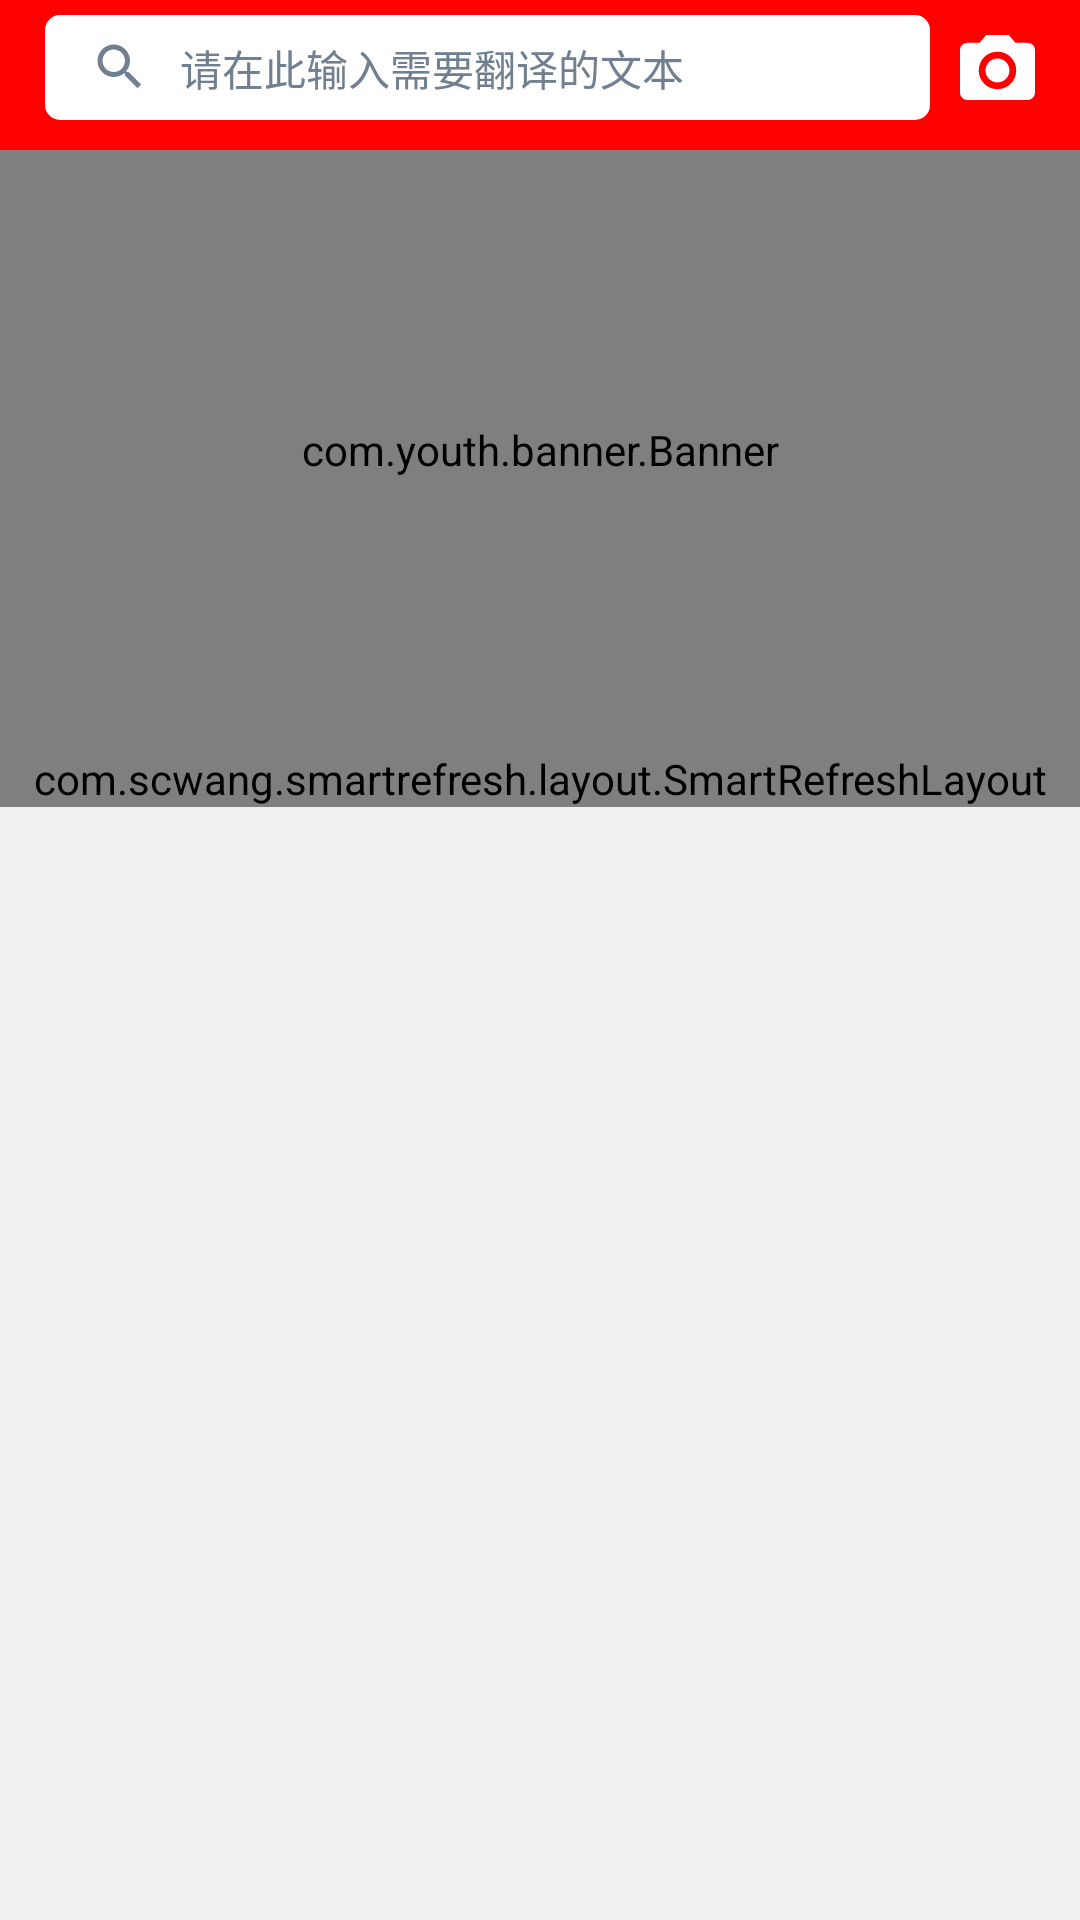

Point at icon controls on the screen. Image size 1080 x 1920, points as point (x, y).
search: point (119, 66)
